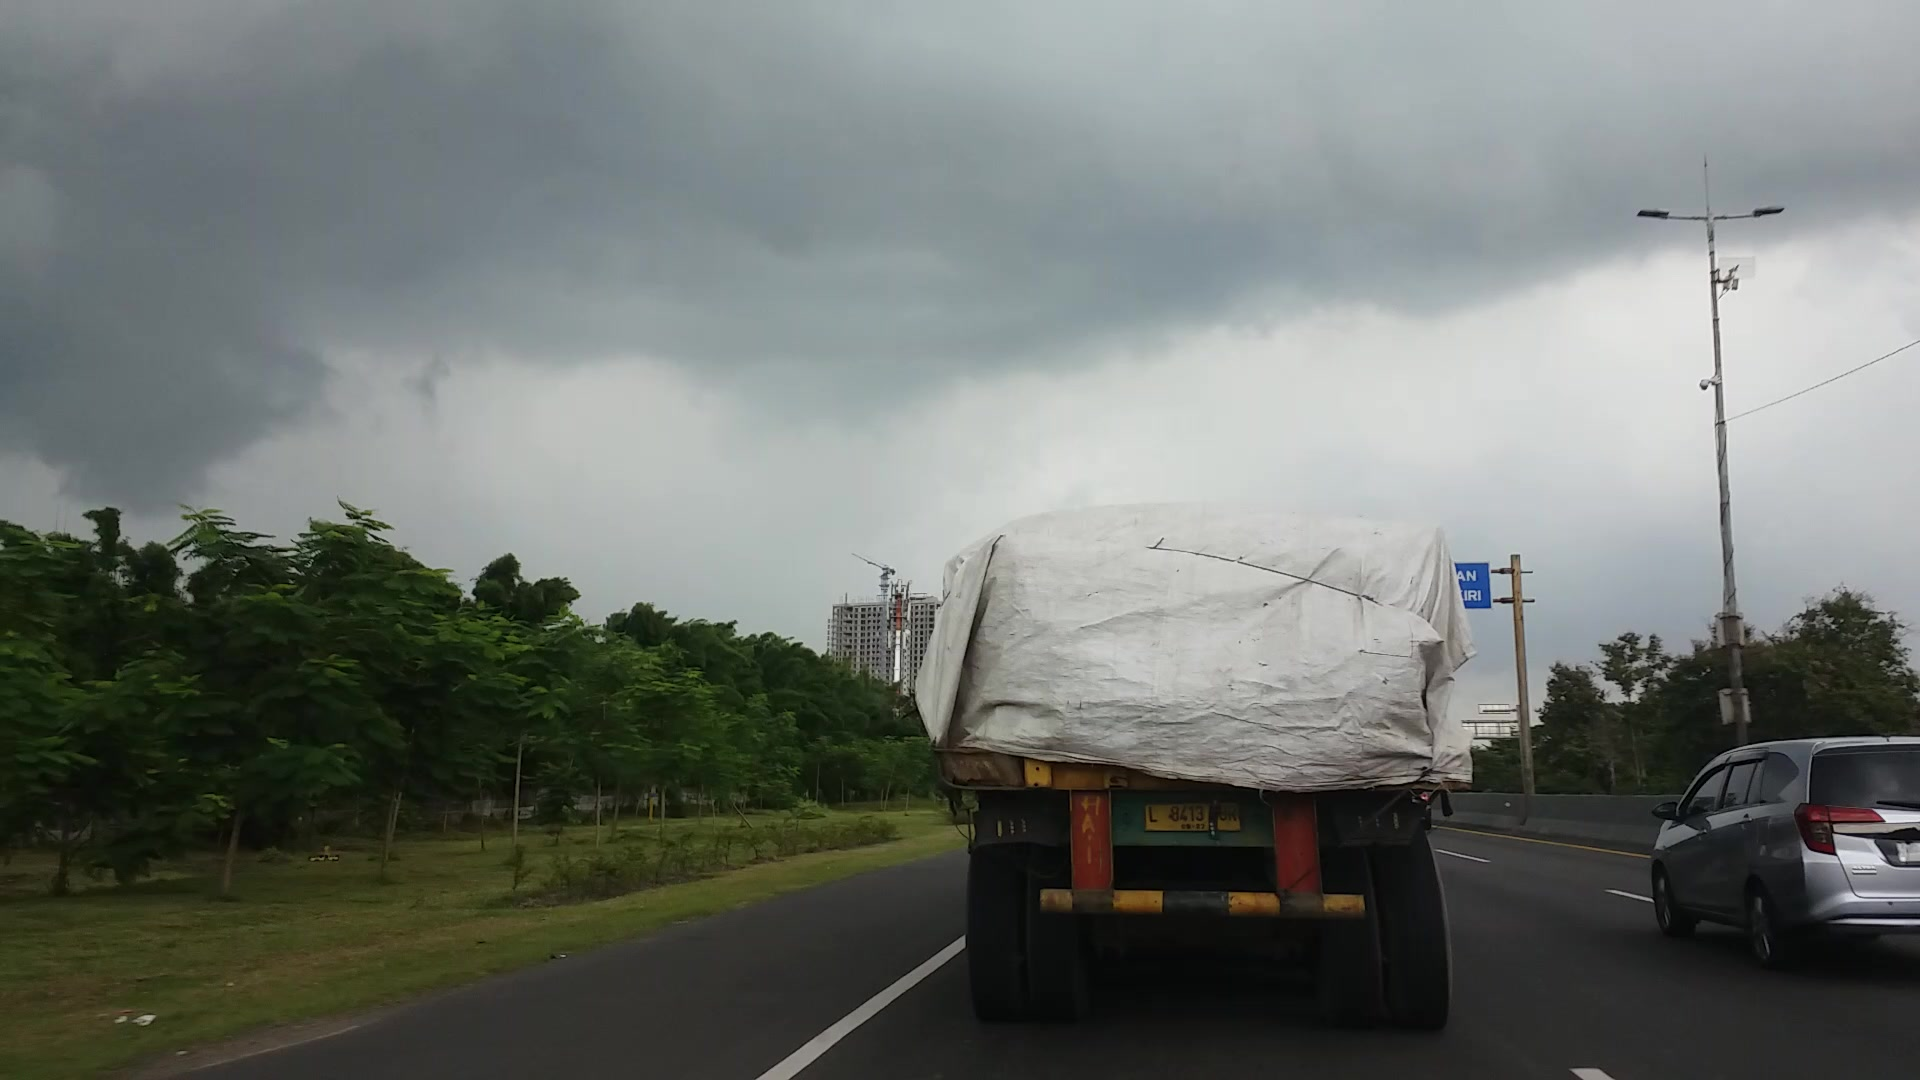plate_positive: (1145, 800, 1240, 832)
